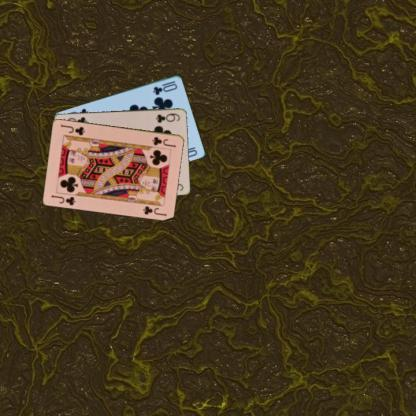10c: (150, 78, 179, 96)
6c: (153, 110, 182, 124)
Jc: (49, 192, 77, 206), (150, 134, 176, 149)
